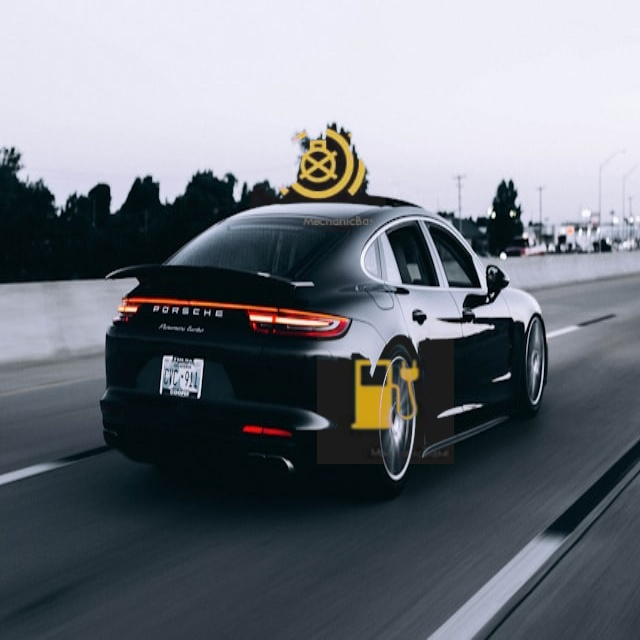symbol: (317, 327, 454, 464), (250, 96, 386, 232)
